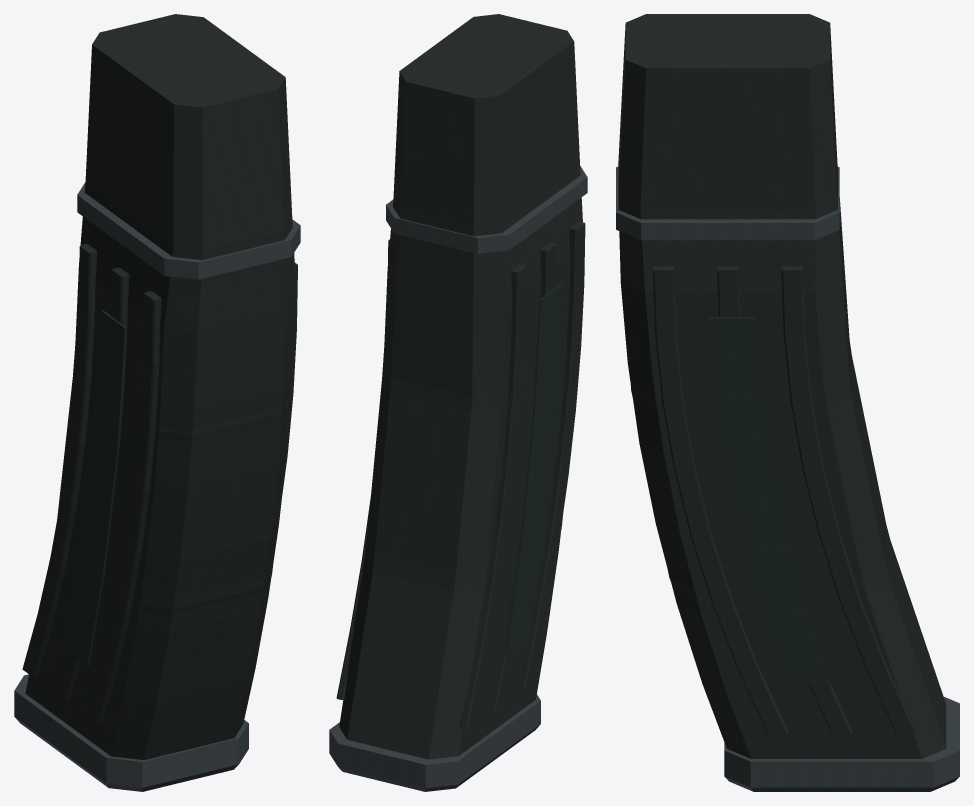
The model's file is ak545_window_30.glb.
The picture shows the model from 3 angles, left to right: view 1: azimuth 30°, elevation 25°; view 2: azimuth 150°, elevation 25°; view 3: azimuth 270°, elevation 25°; orthographic projection. The views are drawn at different scales.
Visible parts, largest first — view 1: ak545_window_30_curved_shell_0, ak545_window_30_curved_shell_1, ak545_window_30_floorplate_0, ak545_window_30_dark_witness_window; view 2: ak545_window_30_curved_shell_1, ak545_window_30_curved_shell_0, ak545_window_30_floorplate_0, ak545_window_30_dark_witness_window; view 3: ak545_window_30_curved_shell_0, ak545_window_30_curved_shell_1, ak545_window_30_dark_witness_window, ak545_window_30_floorplate_0.
Part boxes in pixels (<box>): ak545_window_30_curved_shell_0: <box>22,14,297,759</box>; ak545_window_30_curved_shell_1: <box>25,346,291,754</box>; ak545_window_30_floorplate_0: <box>14,182,300,791</box>; ak545_window_30_dark_witness_window: <box>63,310,126,665</box>; ak545_window_30_curved_shell_1: <box>339,199,566,759</box>; ak545_window_30_curved_shell_0: <box>336,14,585,747</box>; ak545_window_30_floorplate_0: <box>329,165,587,791</box>; ak545_window_30_dark_witness_window: <box>505,284,562,654</box>; ak545_window_30_curved_shell_0: <box>618,14,920,758</box>; ak545_window_30_curved_shell_1: <box>630,163,946,758</box>; ak545_window_30_dark_witness_window: <box>707,317,830,682</box>; ak545_window_30_floorplate_0: <box>616,166,959,791</box>.
Size of the model in its own units: 0.0716 by 0.333 by 0.1445.
Materials: 3 (3 with a texture image).
